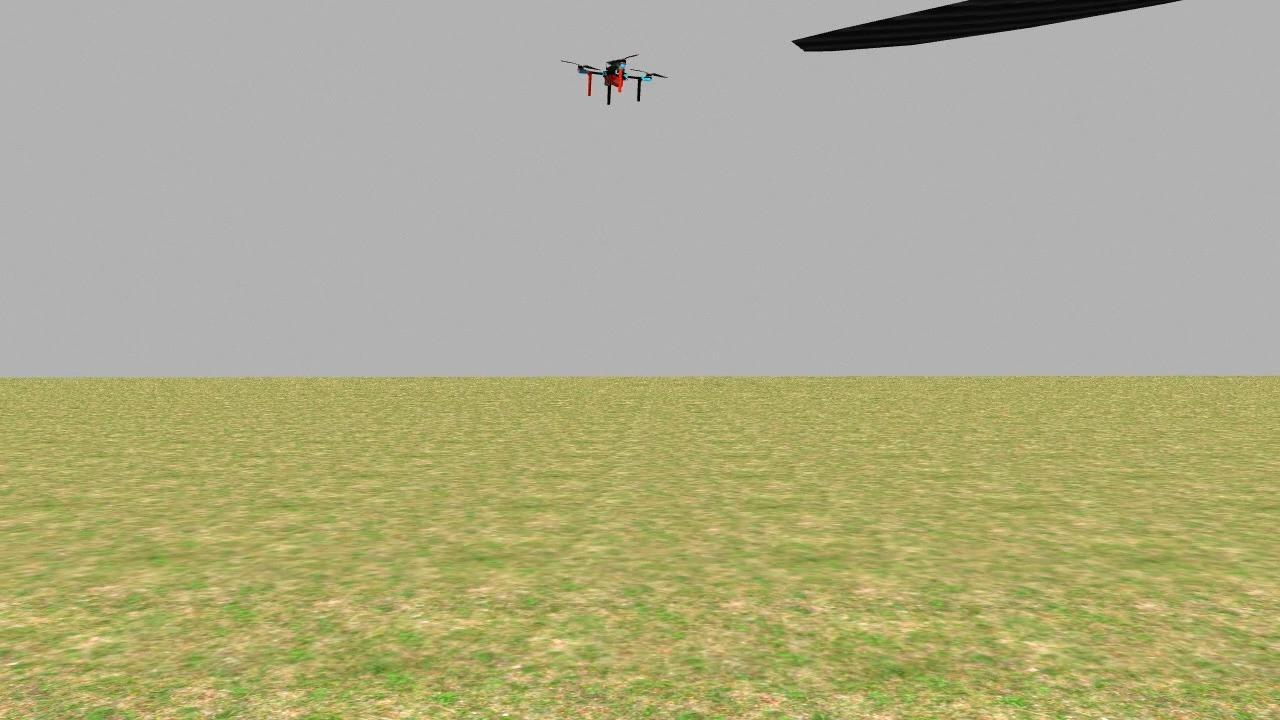UAV: (561, 47, 668, 116)
